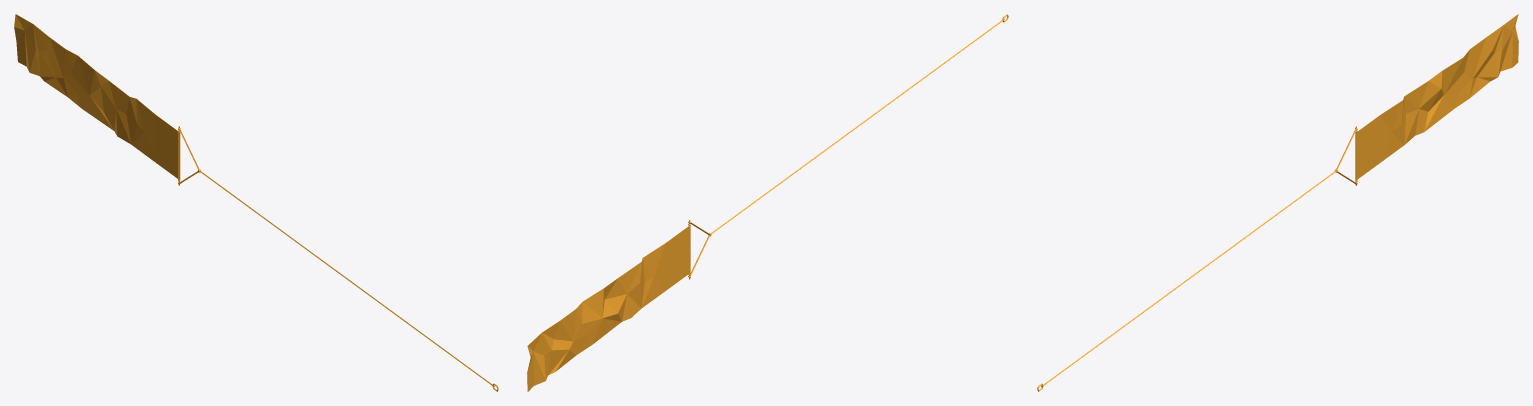
Rendered from SM_Plane_Banner.fbx.
The picture shows the model from 3 angles, left to right: view 1: azimuth 30°, elevation 25°; view 2: azimuth 150°, elevation 25°; view 3: azimuth 330°, elevation 25°; orthographic projection.
Parts seen in each view (by area): view 1: SM_Plane_Banner; view 2: SM_Plane_Banner; view 3: SM_Plane_Banner.
Part boxes in pixels (x1=…): SM_Plane_Banner: x1=14, y1=14, x2=498, y2=391; SM_Plane_Banner: x1=527, y1=14, x2=1008, y2=391; SM_Plane_Banner: x1=1037, y1=14, x2=1518, y2=391.
Bounding box in the file's own units: 0.231 × 1.89 × 28.02.
